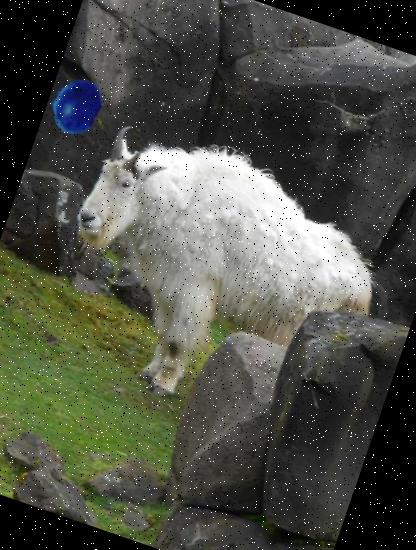Huckleberry: (40, 70, 112, 142)
